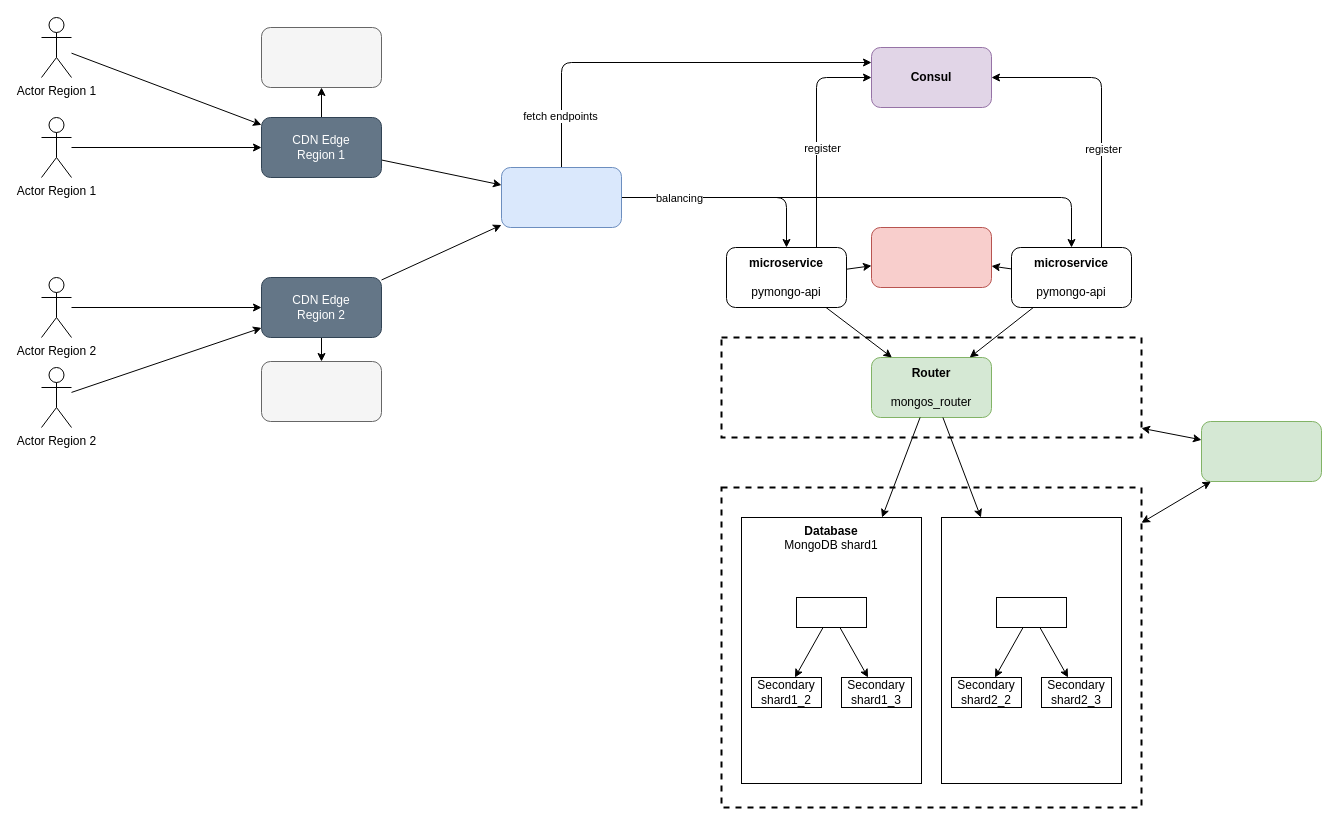
This 1339x826 diagram has some shape labels left out. Each missing label, with the box of its shape:
Api Gateway: (500, 166, 622, 228)
cache redis: (870, 226, 992, 288)
CDN Cache Region 1: (260, 26, 382, 88)
CDN Cache Region 2: (260, 360, 382, 422)
Config Server config_srv: (1200, 420, 1322, 482)
Database MongoDB shard2: (940, 516, 1122, 784)
Primary shard1_1: (796, 596, 866, 628)
Primary shard2_1: (996, 596, 1066, 628)
